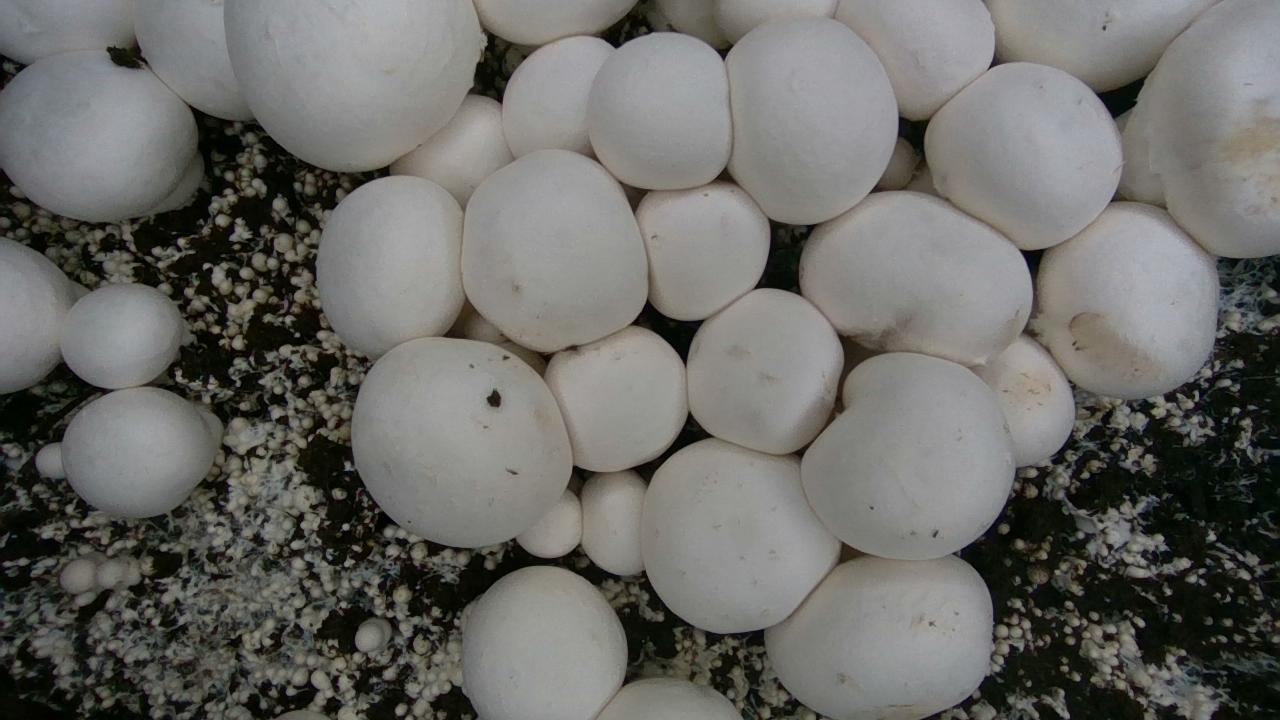WB: (351, 337, 572, 547), (224, 0, 482, 171), (800, 353, 1014, 558), (799, 191, 1032, 364), (640, 438, 840, 632), (461, 150, 647, 350), (1030, 202, 1219, 398), (924, 62, 1122, 249), (765, 555, 992, 718), (725, 17, 898, 223), (0, 50, 197, 221), (1150, 0, 1280, 256), (316, 176, 464, 358), (687, 289, 843, 453), (462, 566, 626, 719), (586, 32, 731, 189), (543, 325, 687, 471), (986, 0, 1215, 91), (61, 386, 217, 517), (835, 0, 994, 120), (636, 182, 769, 319), (134, 0, 253, 120), (390, 95, 513, 209), (972, 334, 1074, 466), (502, 36, 613, 157), (60, 283, 183, 389), (473, 0, 635, 44), (580, 469, 646, 575), (597, 677, 742, 719), (713, 0, 837, 43), (516, 489, 581, 557)
